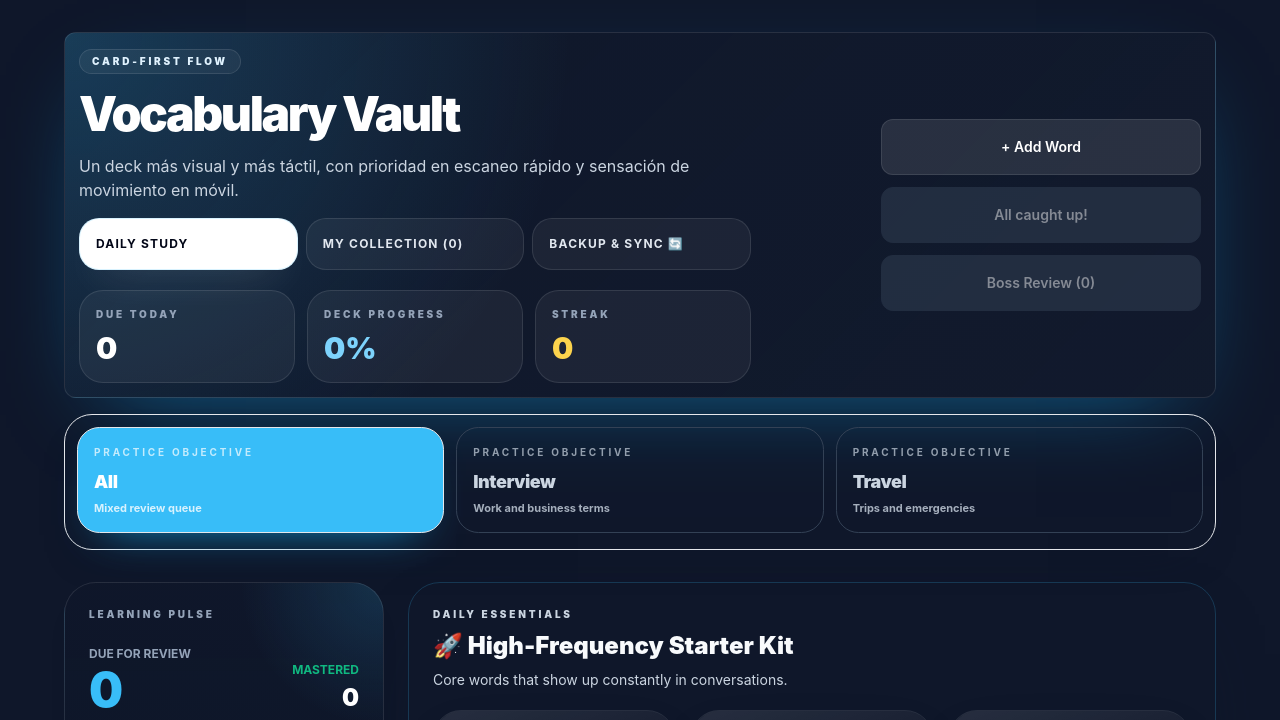
VocabularyVaultView flows › Enter: confirms save action in add word modal
The width and height of the screenshot is (1280, 720).
Click the button "+ Add Word". click: (1041, 147)
box: [881,119,1201,175]
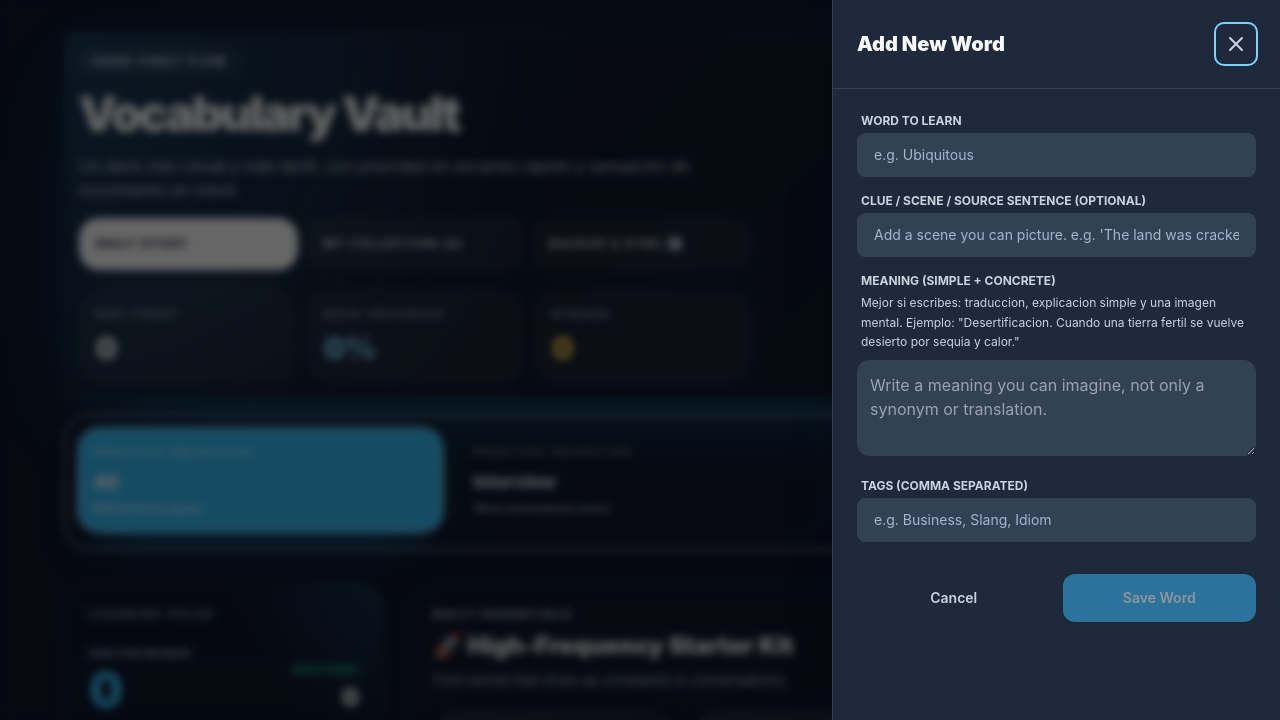
Type "testword" into the field labelled "Word to learn". click: (1056, 155)
box: [857,133,1256,177]
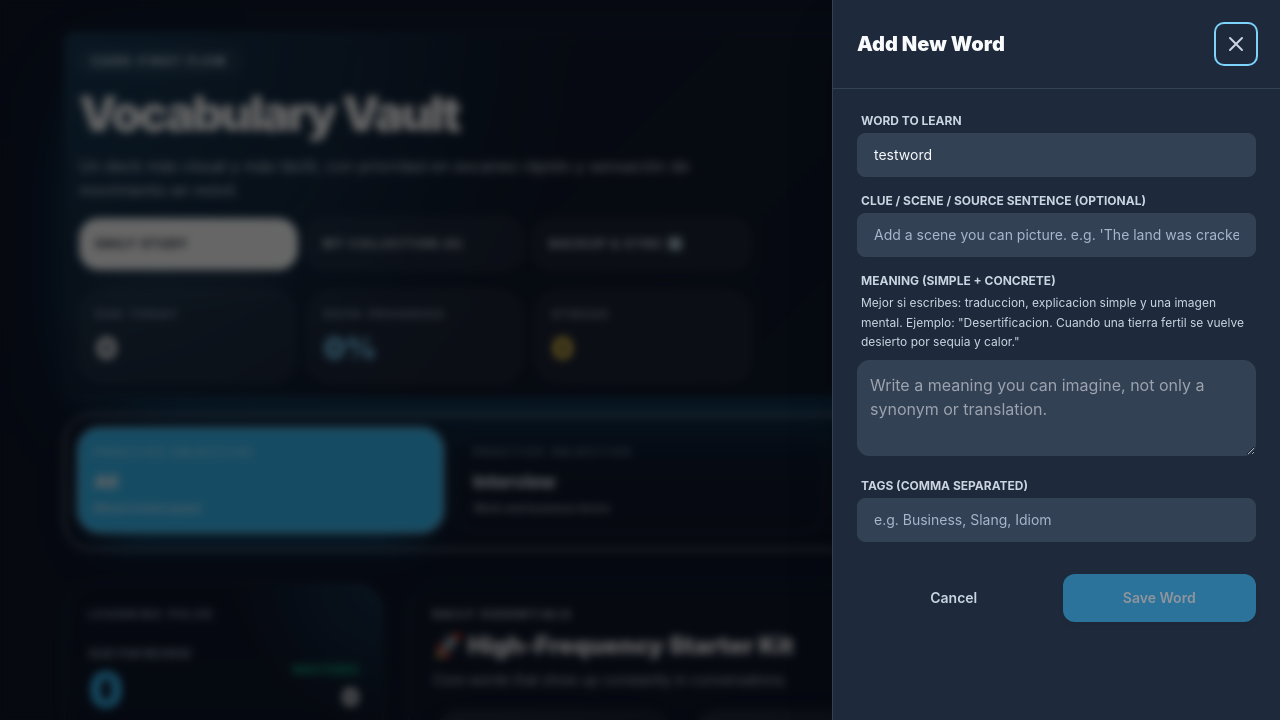
Replace the text in the text box labelled "Meaning (simple + concrete)" with "a sample definition". click: (1056, 408)
box: [857,360,1256,456]
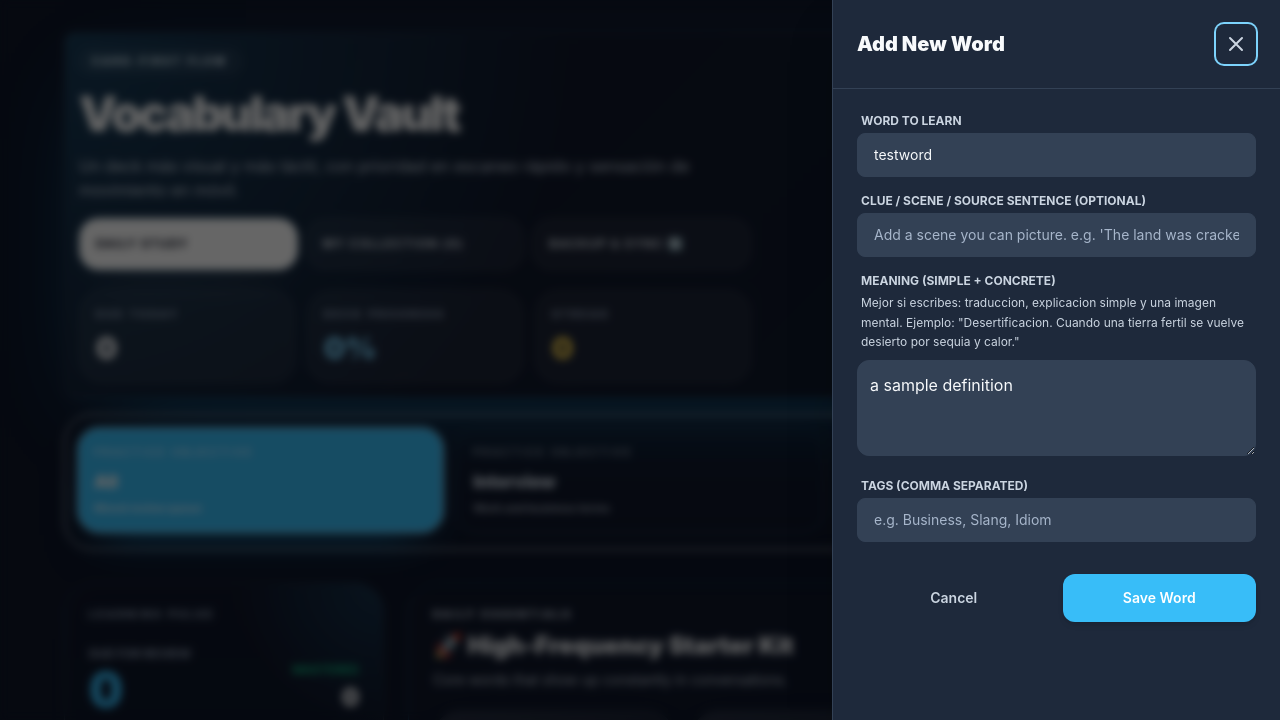
Press Enter in the field labelled "Word to learn", box [857,133,1256,177]
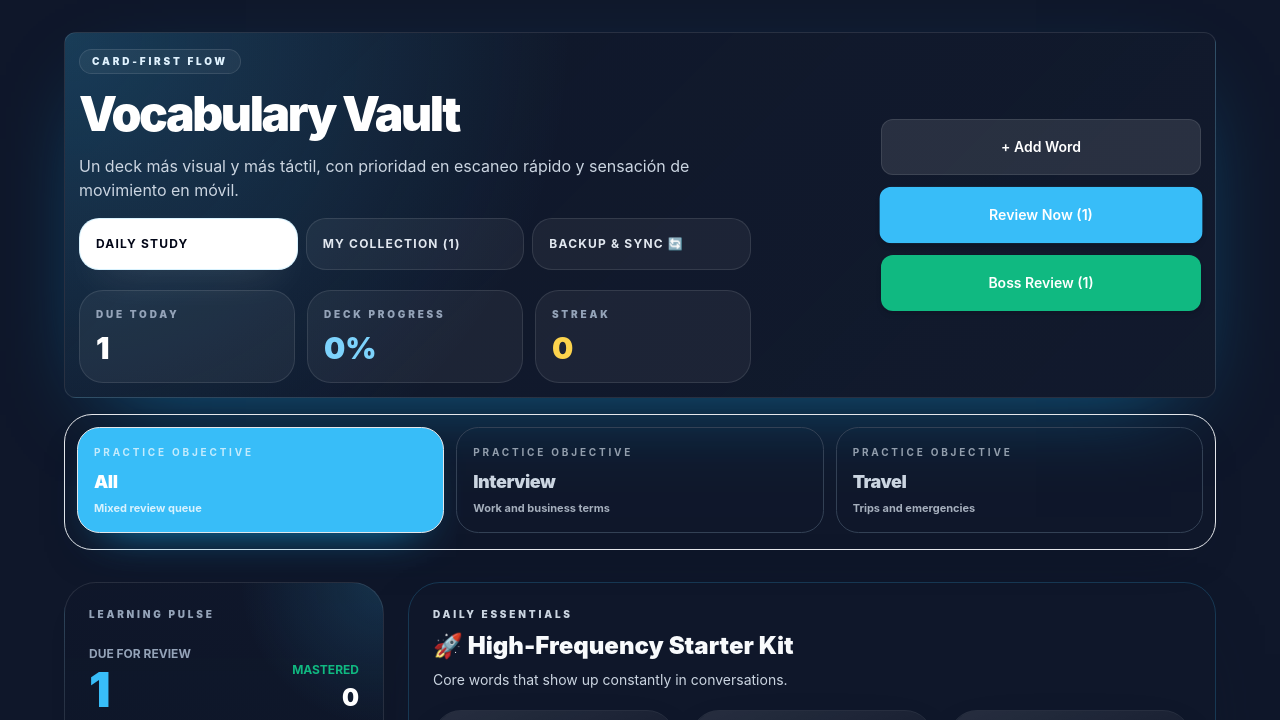
Expected: the heading "Add New Word" is gone
